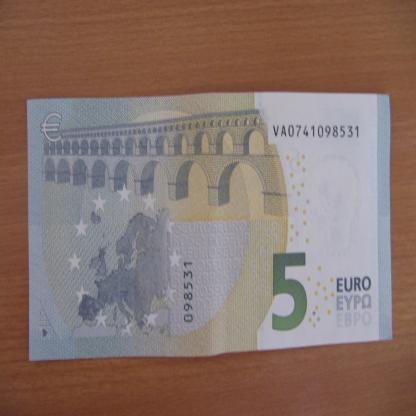billete: (25, 88, 394, 362)
